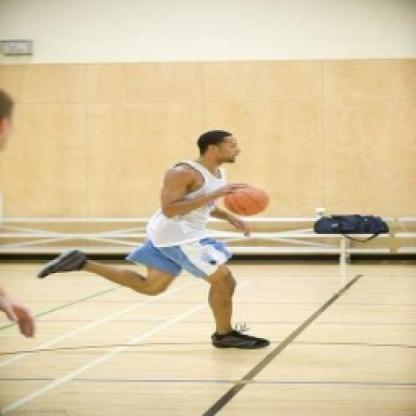basketball: (221, 183, 275, 221)
